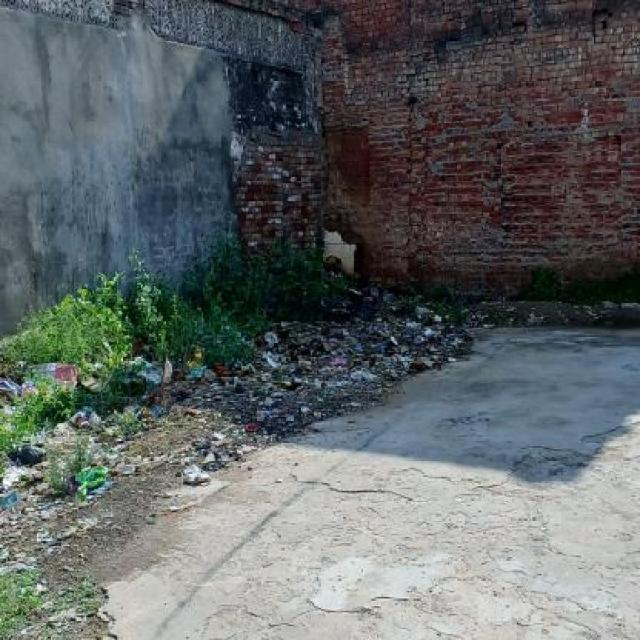garbage: (0, 359, 123, 630), (138, 354, 290, 476), (268, 319, 415, 406), (357, 278, 490, 360), (494, 294, 640, 332)
